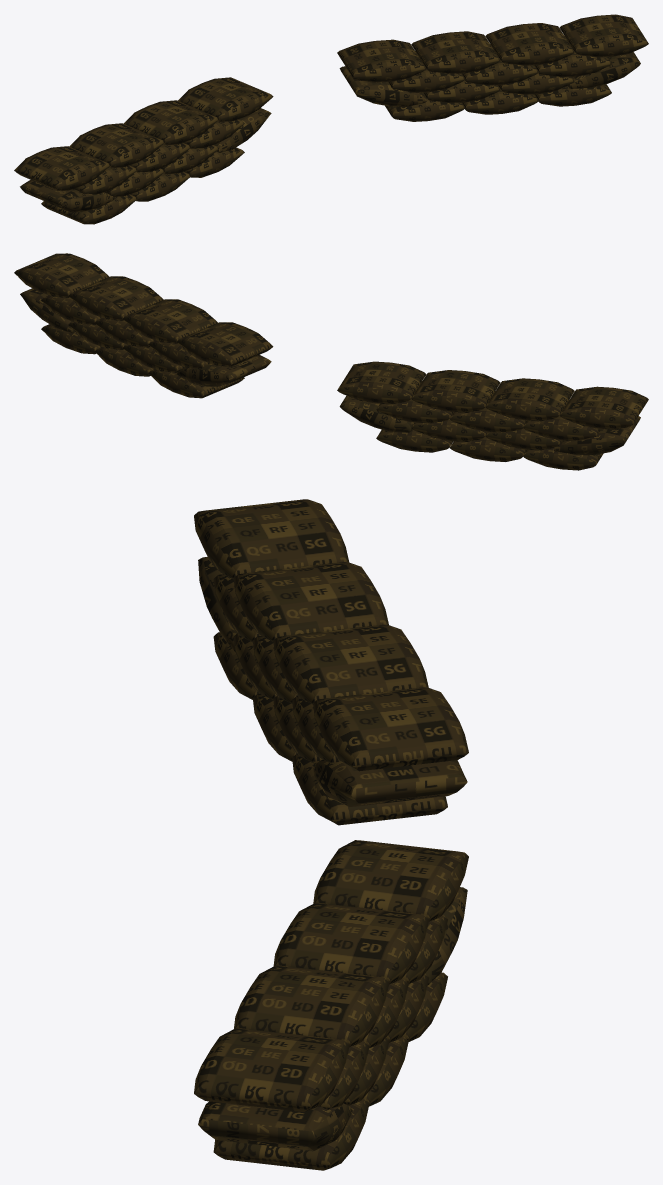
The model's file is Sack_Stack_UVs.fbx.
3 views of the same model, one above another, from view 1: azimuth 30°, elevation 25°; view 2: azimuth 150°, elevation 25°; view 3: azimuth 270°, elevation 25° (orthographic). The views are drawn at different scales.
Parts seen in each view (by area): view 1: pCube28; view 2: pCube28; view 3: pCube28.
Part boxes in pixels (left/top/right/bottom): pCube28: left=14, top=14, right=648, bottom=224; pCube28: left=14, top=253, right=648, bottom=470; pCube28: left=194, top=499, right=468, bottom=1170.
Size of the model in its own units: 10.65 by 1.07 by 2.05.
1 material, 1 textured.
